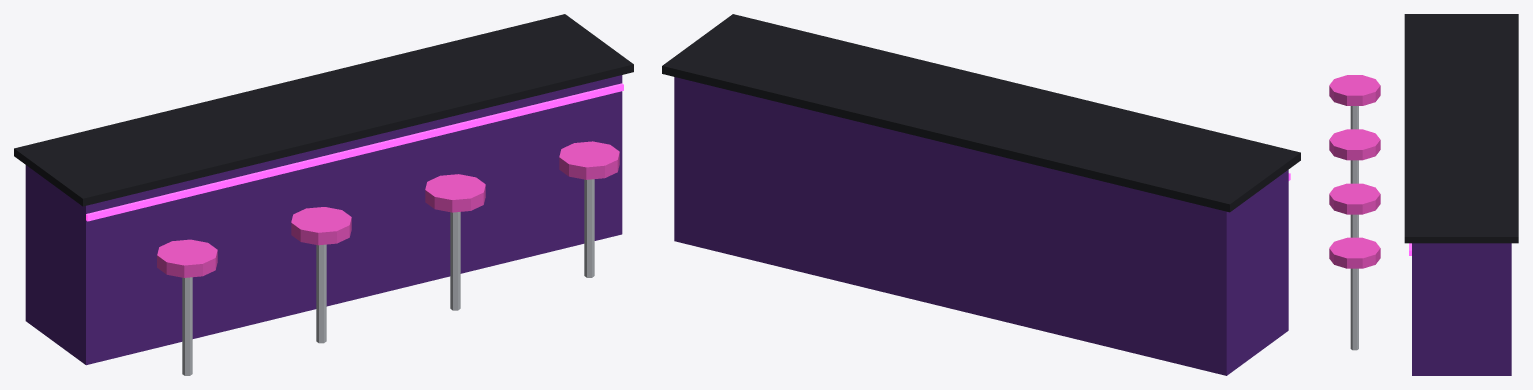
Rendered from karaoke_bar.glb.
3 renders of one model, left to right at view 1: azimuth 30°, elevation 25°; view 2: azimuth 150°, elevation 25°; view 3: azimuth 270°, elevation 25°, orthographic. The views are drawn at different scales.
Parts seen in each view (by area): view 1: bar_kbar_purple, top_kbar_top, seat_kstool_seat (×4), neon_kbar_neon, stool_stool_chrome (×4); view 2: bar_kbar_purple, top_kbar_top; view 3: top_kbar_top, bar_kbar_purple, seat_kstool_seat (×4), stool_stool_chrome (×4).
Part boxes in pixels (bbox=[...]): bar_kbar_purple: bbox=[25, 75, 622, 365]; top_kbar_top: bbox=[14, 14, 633, 206]; seat_kstool_seat (×4): bbox=[157, 141, 619, 277]; neon_kbar_neon: bbox=[86, 83, 623, 221]; stool_stool_chrome (×4): bbox=[182, 179, 594, 375]; bar_kbar_purple: bbox=[674, 77, 1288, 375]; top_kbar_top: bbox=[662, 14, 1300, 212]; top_kbar_top: bbox=[1404, 14, 1518, 243]; bar_kbar_purple: bbox=[1412, 243, 1511, 375]; seat_kstool_seat (×4): bbox=[1329, 75, 1380, 268]; stool_stool_chrome (×4): bbox=[1350, 106, 1358, 350].
Size of the model in its own units: 3.7 by 1.1 by 1.33.
